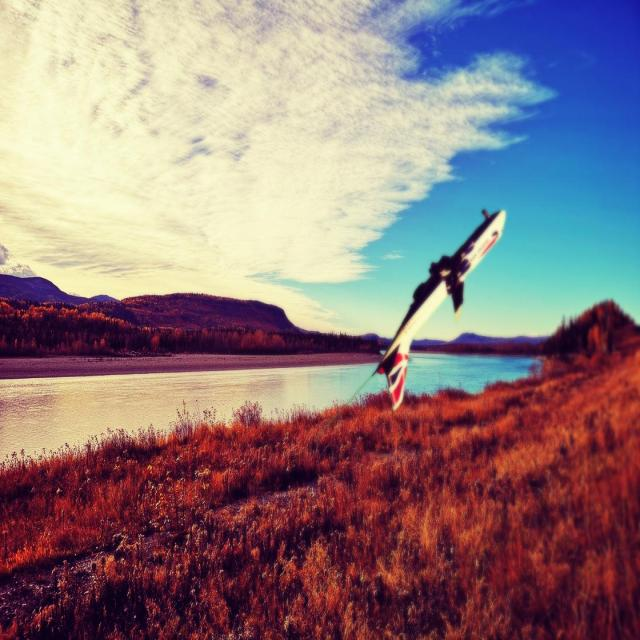airplane: (372, 207, 506, 411)
